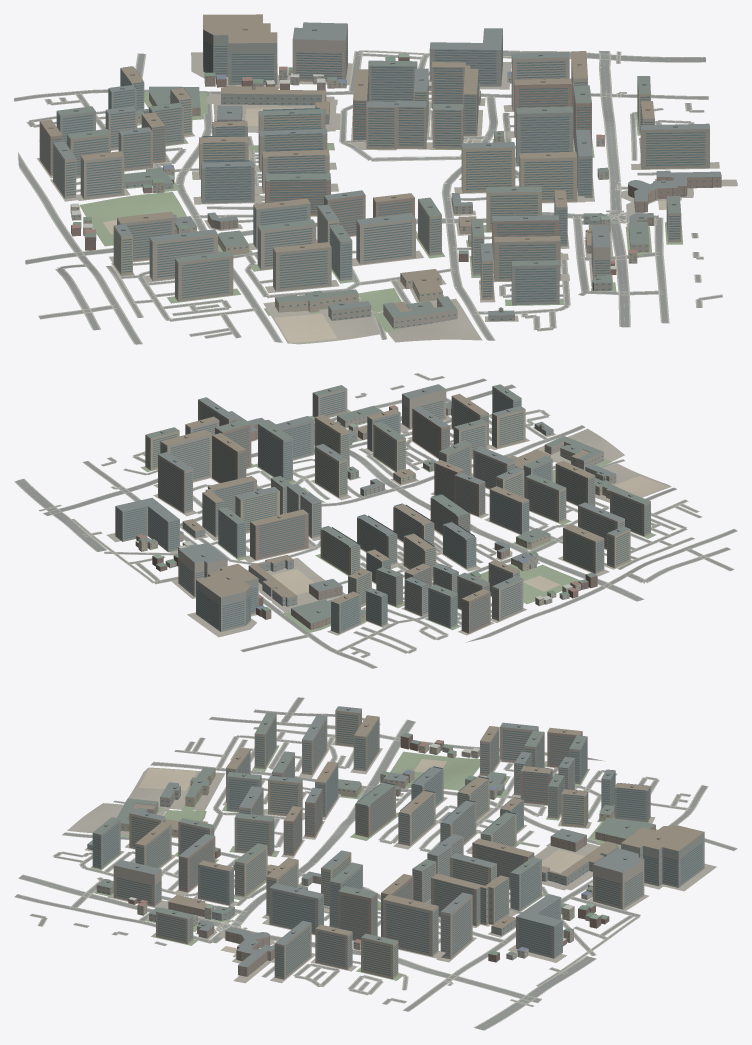
3 views of the same model, one above another, from view 1: azimuth 30°, elevation 25°; view 2: azimuth 150°, elevation 25°; view 3: azimuth 270°, elevation 25° (orthographic). The views are drawn at different scales.
Parts seen in each view (by area): view 1: context-osm-buildings, context-osm-roads, context-building-plinths, context-osm-sidewalks; view 2: context-osm-buildings, context-osm-roads, context-osm-sidewalks, context-building-plinths; view 3: context-osm-buildings, context-osm-roads, context-building-plinths, context-osm-sidewalks.
Part boxes in pixels (x1,y1,x2,y2): context-osm-buildings: (39,14,721,328); context-osm-roads: (14,51,722,344); context-building-plinths: (37,52,737,344); context-osm-sidewalks: (14,50,722,344); context-osm-buildings: (115,384,650,633); context-osm-roads: (15,373,736,668); context-osm-sidewalks: (14,373,737,668); context-building-plinths: (106,409,671,637); context-osm-buildings: (87,706,704,979); context-osm-roads: (15,697,736,1030); context-building-plinths: (67,740,716,983); context-osm-sidewalks: (14,697,737,1030).
Size of the model in its own units: 924 by 75.89 by 855.
